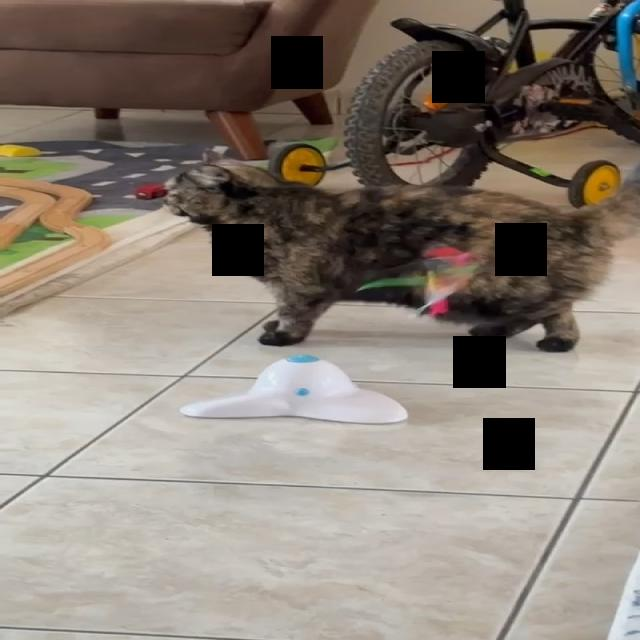authorized: (160, 148, 639, 352)
